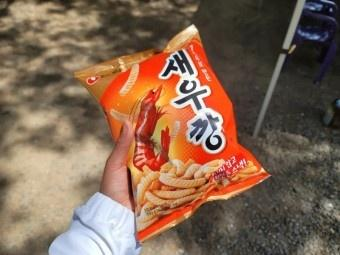snack: (73, 23, 273, 246)
